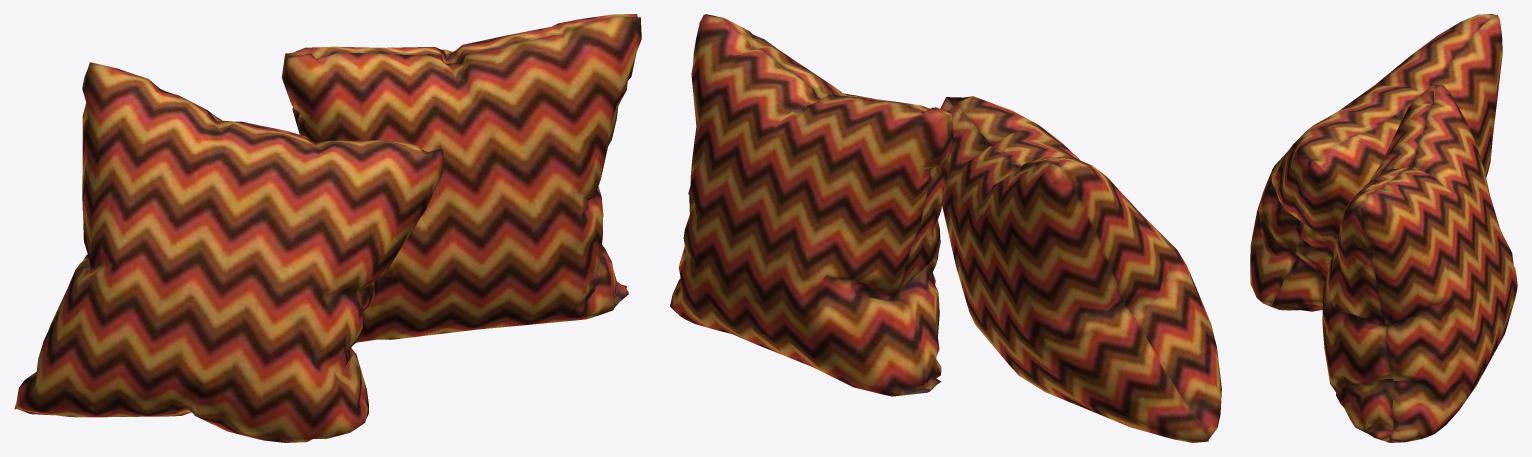
Rendered from throw_pillows_01_1k.glb.
3 views of the same model, side by side, from view 1: azimuth 30°, elevation 25°; view 2: azimuth 150°, elevation 25°; view 3: azimuth 270°, elevation 25° (orthographic). The views are drawn at different scales.
Parts seen in each view (by area): view 1: throw_pillows_01_pillow02; view 2: throw_pillows_01_pillow02; view 3: throw_pillows_01_pillow02.
Boxes of the visible parts, box(x1,y1,x2,y2) form: throw_pillows_01_pillow02: box(14, 14, 641, 442); throw_pillows_01_pillow02: box(670, 14, 1221, 442); throw_pillows_01_pillow02: box(1250, 14, 1517, 442).
Size of the model in its own units: 0.9401 by 0.4499 by 0.4502.
1 material, 1 textured.
